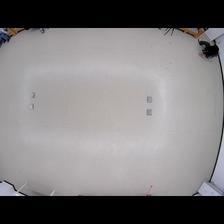fall: (197, 36, 220, 61)
